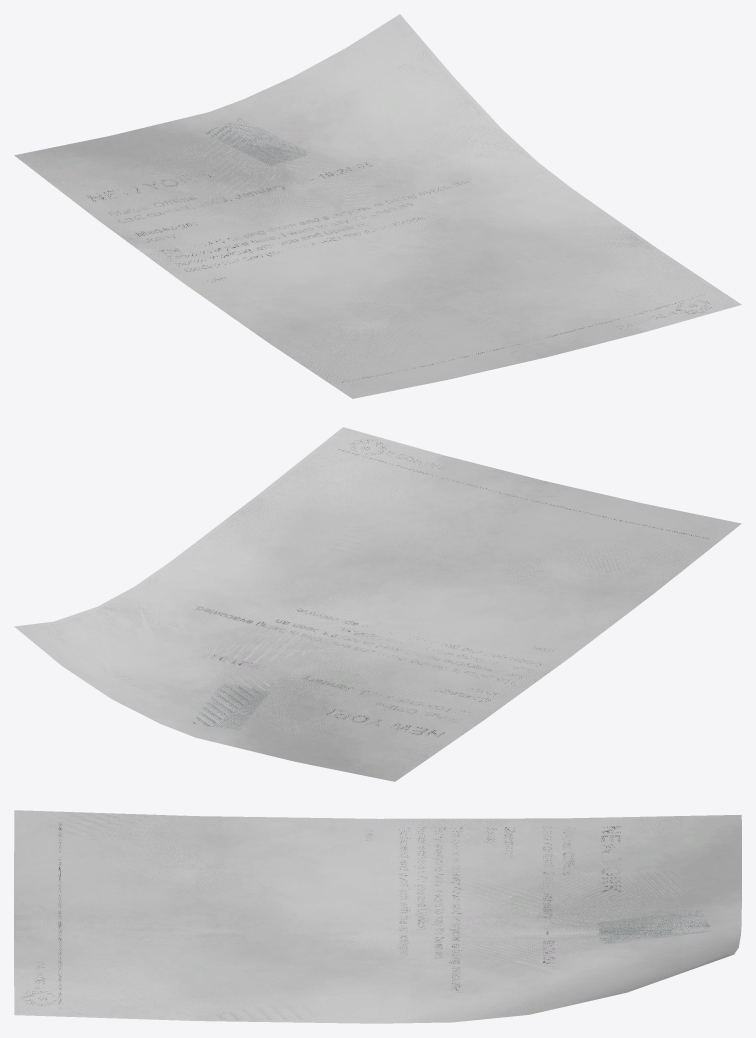
File: upsilon_citynotes_newyork.dae
3 views of the same model, one above another, from view 1: azimuth 30°, elevation 25°; view 2: azimuth 150°, elevation 25°; view 3: azimuth 270°, elevation 25° (orthographic). The views are drawn at different scales.
Parts seen in each view (by area): view 1: newyork; view 2: newyork; view 3: newyork.
Boxes of the visible parts, x1,y1,x2,y2 form: newyork: [14, 14, 741, 398]; newyork: [14, 427, 741, 781]; newyork: [14, 810, 741, 1023].
Size of the model in its own units: 0.3849 by 0.0598 by 0.5802.
